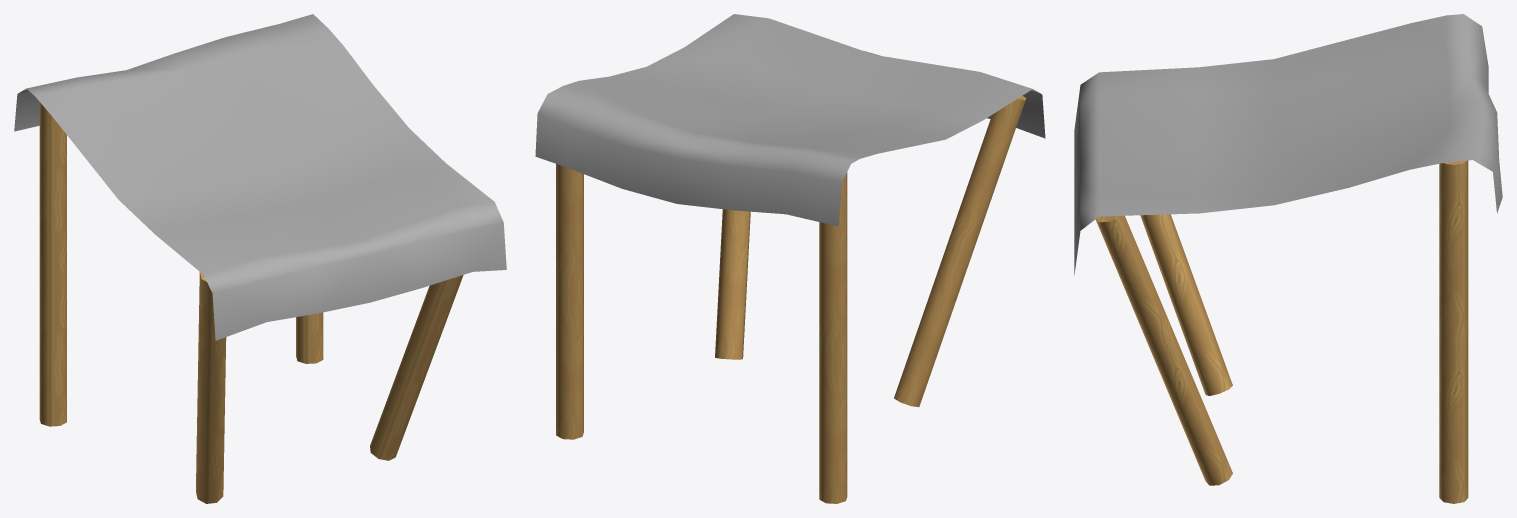
The model's file is hut2.fbx.
The picture shows the model from 3 angles, left to right: view 1: azimuth 30°, elevation 25°; view 2: azimuth 150°, elevation 25°; view 3: azimuth 270°, elevation 25°; orthographic projection. The views are drawn at different scales.
Parts seen in each view (by area): view 1: Tarp, Wood; view 2: Tarp, Wood; view 3: Tarp, Wood.
Part boxes in pixels (left/top/right/bottom): Tarp: left=14, top=14, right=506, bottom=340; Wood: left=39, top=102, right=463, bottom=503; Tarp: left=535, top=14, right=1045, bottom=226; Wood: left=556, top=96, right=1026, bottom=503; Tarp: left=1074, top=14, right=1502, bottom=275; Wood: left=1095, top=160, right=1468, bottom=503.
Bounding box in the file's own units: 357 × 397 × 442.
